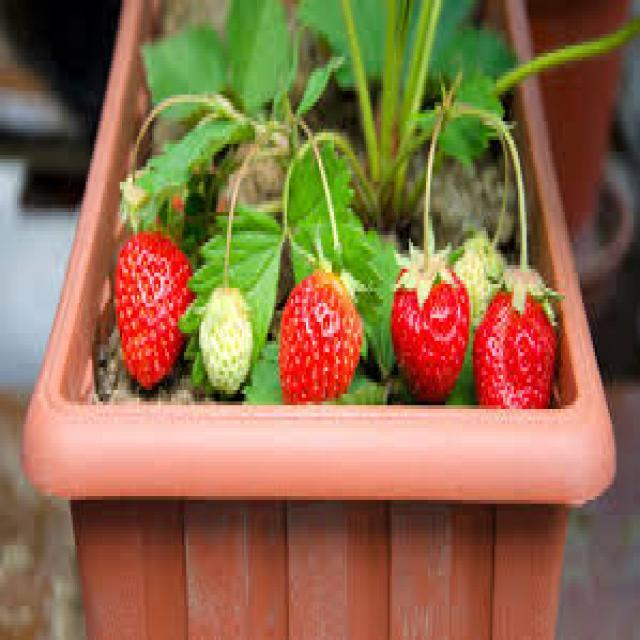Fruta sana: (482, 262, 558, 412), (387, 250, 467, 392), (119, 230, 194, 380), (288, 278, 367, 394), (200, 282, 253, 390)
